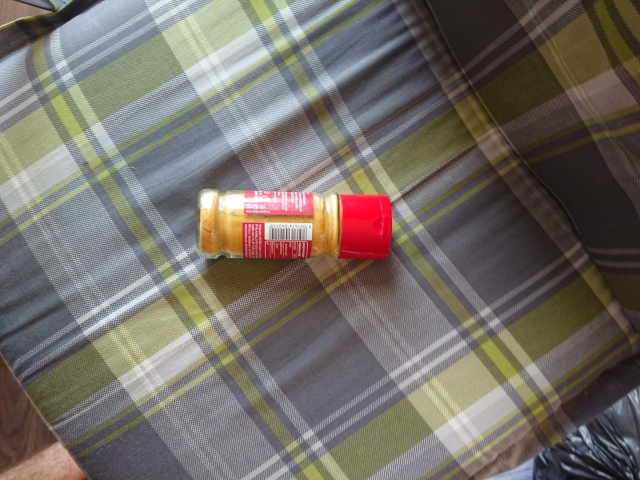Kotanyi Curry Spices Mix 70g: (193, 186, 396, 263)
